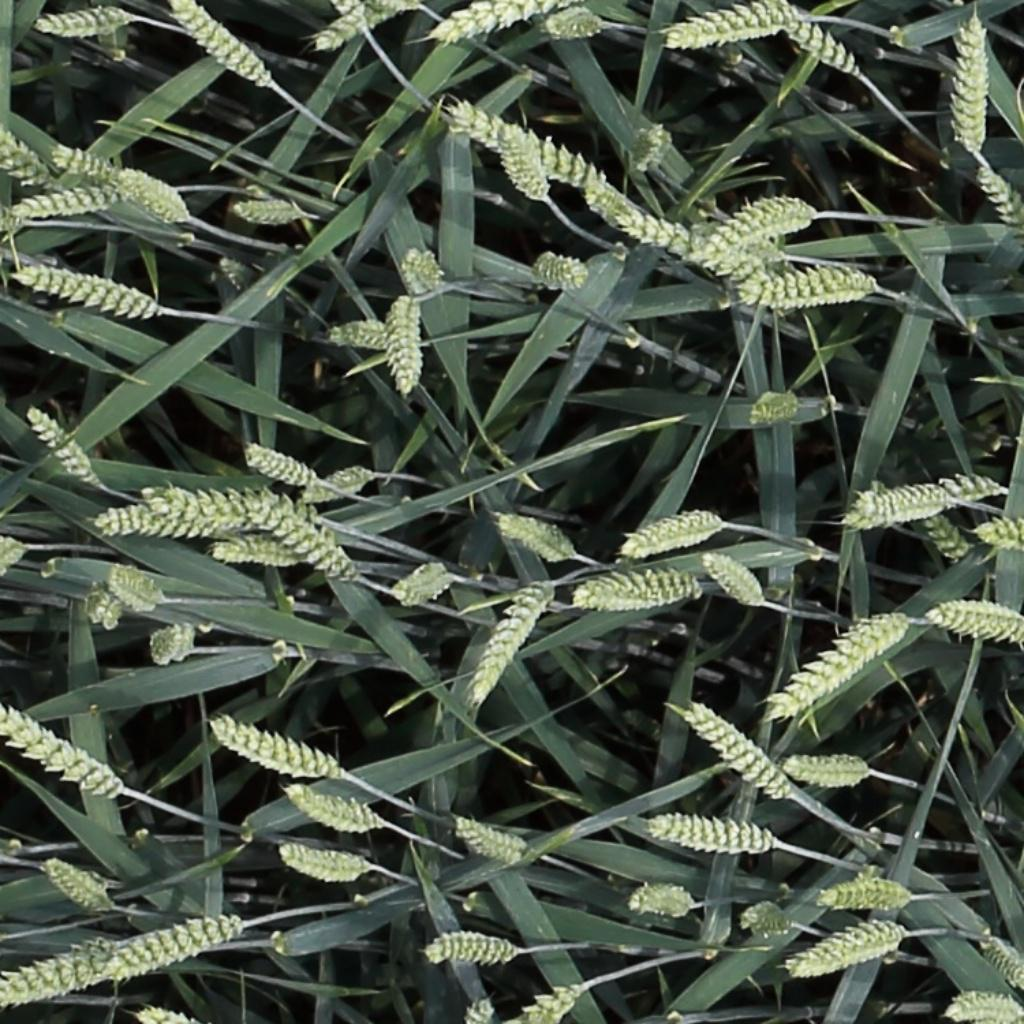0-0: (597, 181, 791, 283), (148, 486, 354, 576), (434, 98, 610, 188), (774, 614, 909, 718), (94, 507, 313, 571), (0, 679, 110, 787), (468, 581, 554, 707), (688, 703, 794, 801), (16, 264, 158, 330), (172, 0, 273, 88), (847, 475, 999, 527), (210, 720, 342, 779), (113, 921, 241, 979), (253, 489, 343, 570), (939, 10, 987, 155), (23, 401, 103, 486), (647, 805, 776, 856), (779, 4, 864, 76), (434, 0, 578, 42), (734, 261, 874, 304), (573, 568, 701, 614), (934, 586, 1022, 651), (853, 467, 953, 523), (614, 510, 723, 559), (791, 928, 906, 974), (0, 79, 46, 185), (972, 155, 1024, 247), (0, 961, 113, 1002), (286, 787, 380, 834), (502, 117, 552, 203), (669, 9, 795, 43), (709, 202, 816, 241), (118, 169, 191, 223), (821, 867, 914, 909), (701, 550, 768, 608), (311, 5, 386, 53), (42, 860, 109, 913), (499, 516, 576, 561), (244, 443, 320, 488), (454, 820, 527, 865), (785, 752, 873, 788), (277, 847, 370, 880), (393, 288, 419, 401), (15, 184, 118, 212), (56, 137, 116, 184), (630, 873, 698, 914), (533, 246, 591, 292), (740, 899, 797, 945), (977, 932, 1022, 988), (630, 116, 671, 176), (531, 981, 589, 1022), (393, 563, 451, 600), (35, 10, 132, 32), (106, 570, 162, 608), (400, 241, 435, 301), (928, 519, 974, 564), (86, 577, 121, 636), (313, 472, 384, 500), (150, 621, 185, 671), (425, 942, 517, 961), (230, 199, 300, 219), (750, 395, 802, 421), (327, 326, 394, 345), (546, 15, 603, 36), (0, 536, 24, 585), (464, 991, 498, 1024), (136, 1006, 192, 1024), (976, 525, 1024, 544), (371, 0, 427, 16), (0, 208, 21, 229)
